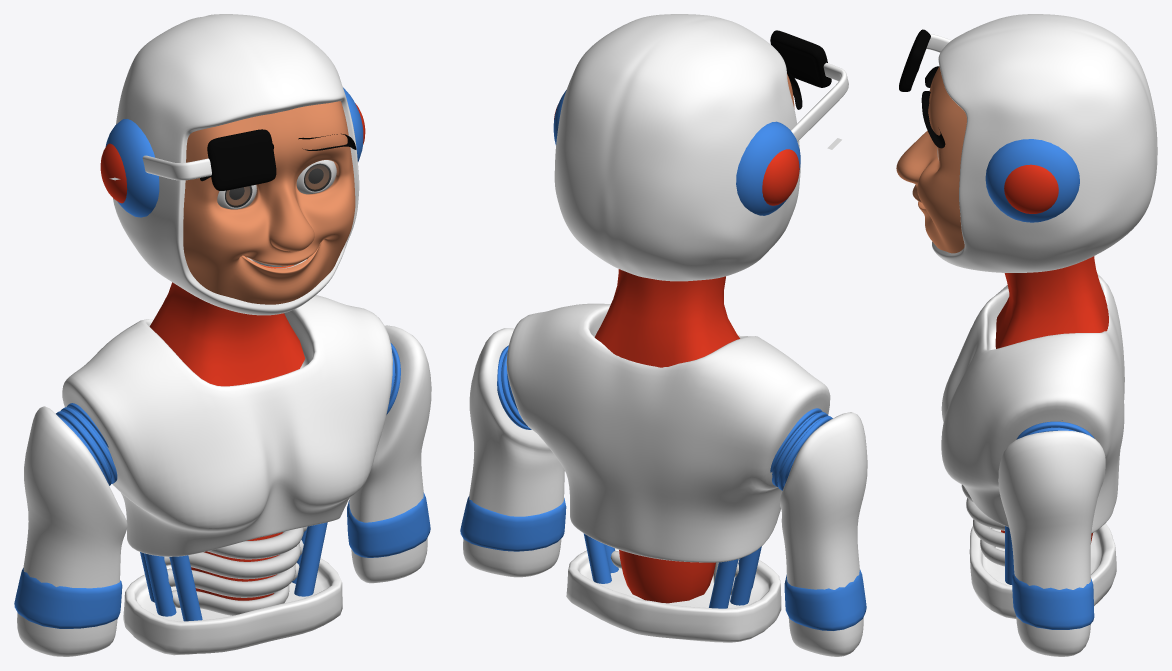
Rendered from cyborg-3d-animated-icon-1119784209113.glb.
The picture shows the model from 3 angles, left to right: view 1: azimuth 30°, elevation 25°; view 2: azimuth 150°, elevation 25°; view 3: azimuth 270°, elevation 25°; orthographic projection. The views are drawn at different scales.
Parts seen in each view (by area): view 1: Cube.263, Head Small Smile, Cube.266, Head Smile with tooth, Cube.269, Cube.267, Cube.268, NurbsPath.091, NurbsPath.094, Plane.080, Sphere.118, Cylinder.363 (+7 smaller); view 2: Cube.263, Head Small Smile, Cube.266, Cube.269, Cube.267, Cube.268, NurbsPath.095, Sphere.118, NurbsPath.094, Plane.080, Cylinder.363, Sphere.120 (+2 smaller); view 3: Head Small Smile, Cube.263, Cube.266, Cube.269, Head Smile with tooth, Sphere.117, Cube.267, Cube.268, Sphere.119, NurbsPath.091, Plane.080, Cube.265 (+2 smaller).
Part boxes in pixels (<box>): Cube.263: <box>62,295,392,556</box>; Head Small Smile: <box>113,14,359,315</box>; Cube.266: <box>17,325,431,656</box>; Head Smile with tooth: <box>183,101,355,304</box>; Cube.269: <box>149,282,305,386</box>; Cube.267: <box>123,558,342,655</box>; Cube.268: <box>14,492,430,628</box>; NurbsPath.091: <box>164,526,307,615</box>; NurbsPath.094: <box>140,522,327,621</box>; Plane.080: <box>207,129,276,190</box>; Sphere.118: <box>105,119,159,217</box>; Cylinder.363: <box>56,403,117,485</box>; Cube.263: <box>506,303,830,562</box>; Head Small Smile: <box>554,14,800,281</box>; Cube.266: <box>463,328,867,656</box>; Cube.269: <box>594,269,739,367</box>; Cube.267: <box>566,548,781,642</box>; Cube.268: <box>460,496,866,630</box>; NurbsPath.095: <box>619,550,715,603</box>; Sphere.118: <box>736,121,800,215</box>; NurbsPath.094: <box>583,533,761,608</box>; Plane.080: <box>770,30,831,87</box>; Cylinder.363: <box>770,408,832,490</box>; Sphere.120: <box>762,149,799,205</box>; Head Small Smile: <box>932,14,1157,272</box>; Cube.263: <box>941,274,1124,533</box>; Cube.266: <box>998,430,1105,656</box>; Cube.269: <box>995,256,1108,348</box>; Head Smile with tooth: <box>896,66,966,253</box>; Sphere.117: <box>985,139,1079,222</box>; Cube.267: <box>969,523,1116,618</box>; Cube.268: <box>1012,571,1094,629</box>; Sphere.119: <box>1004,164,1058,213</box>; NurbsPath.091: <box>961,484,1004,566</box>; Plane.080: <box>899,29,930,91</box>; Cube.265: <box>921,66,945,148</box>.
Size of the model in its own units: 7.61 by 10.75 by 4.6.
